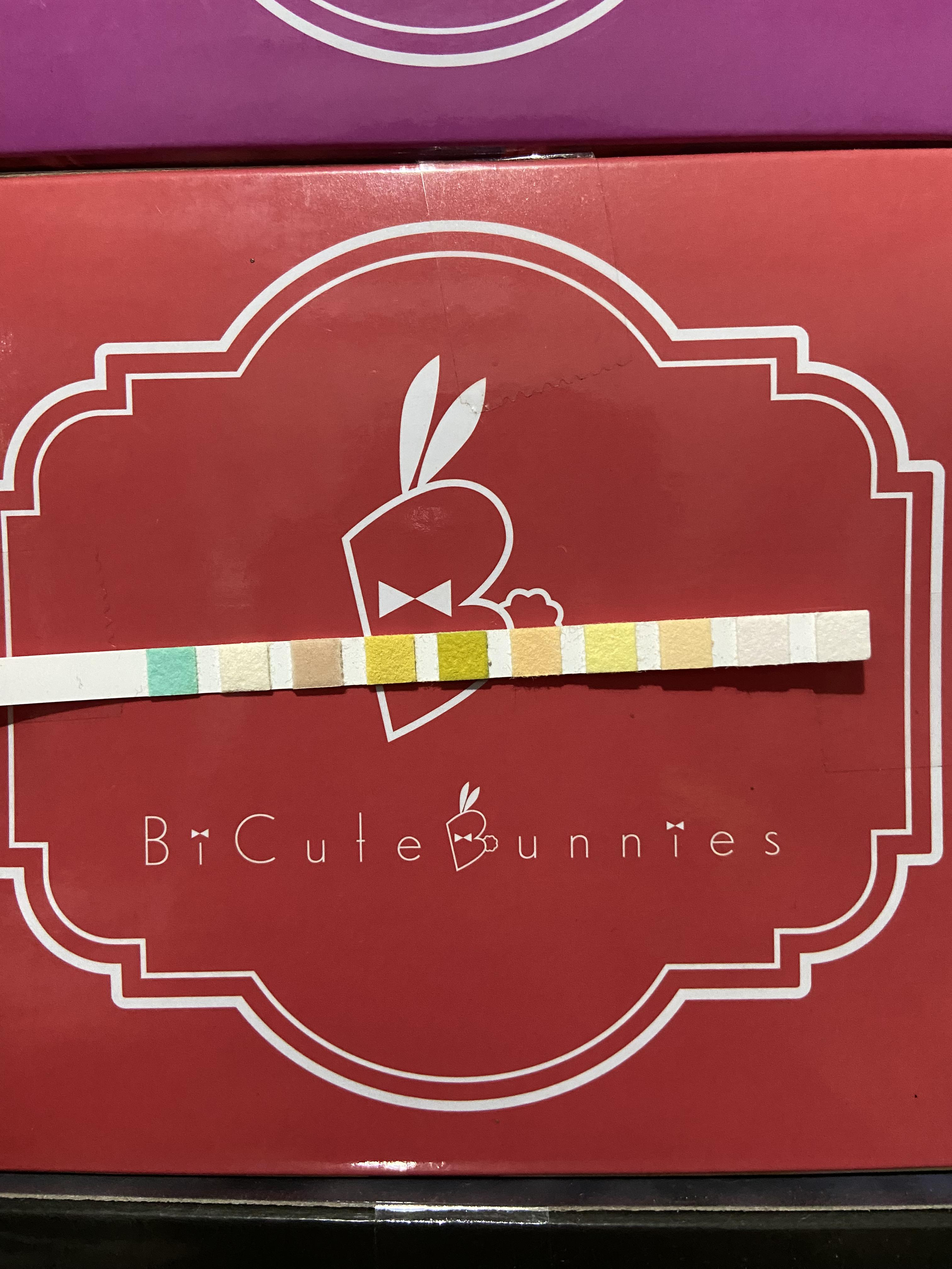Bilirubin: (222, 645, 267, 690)
Blood: (440, 632, 487, 679)
Glucose: (149, 649, 196, 694)
Ketone: (294, 640, 341, 686)
Leukocytes: (817, 614, 869, 660)
Nitrite: (739, 618, 788, 664)
Protein: (587, 624, 634, 670)
SpGravity: (368, 636, 414, 682)
Urobilinogen: (661, 621, 710, 668)
pH: (513, 630, 560, 675)
strip: (13, 609, 870, 705)
